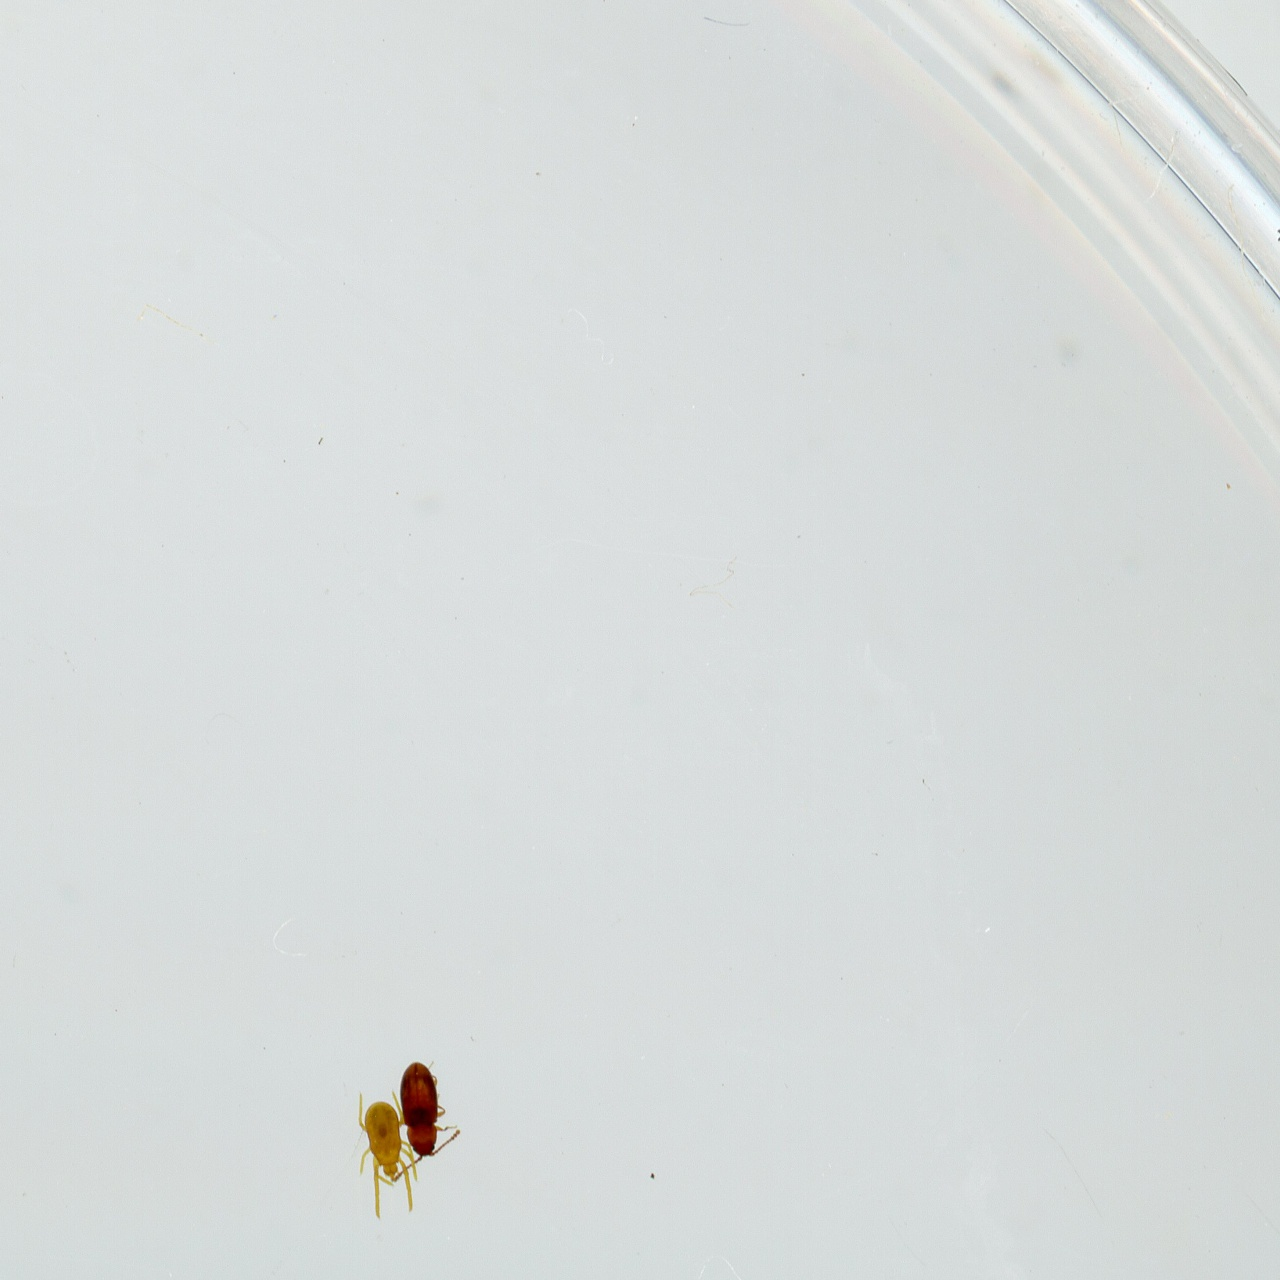arthropod: (350, 1088, 422, 1220), (390, 1055, 462, 1180)
